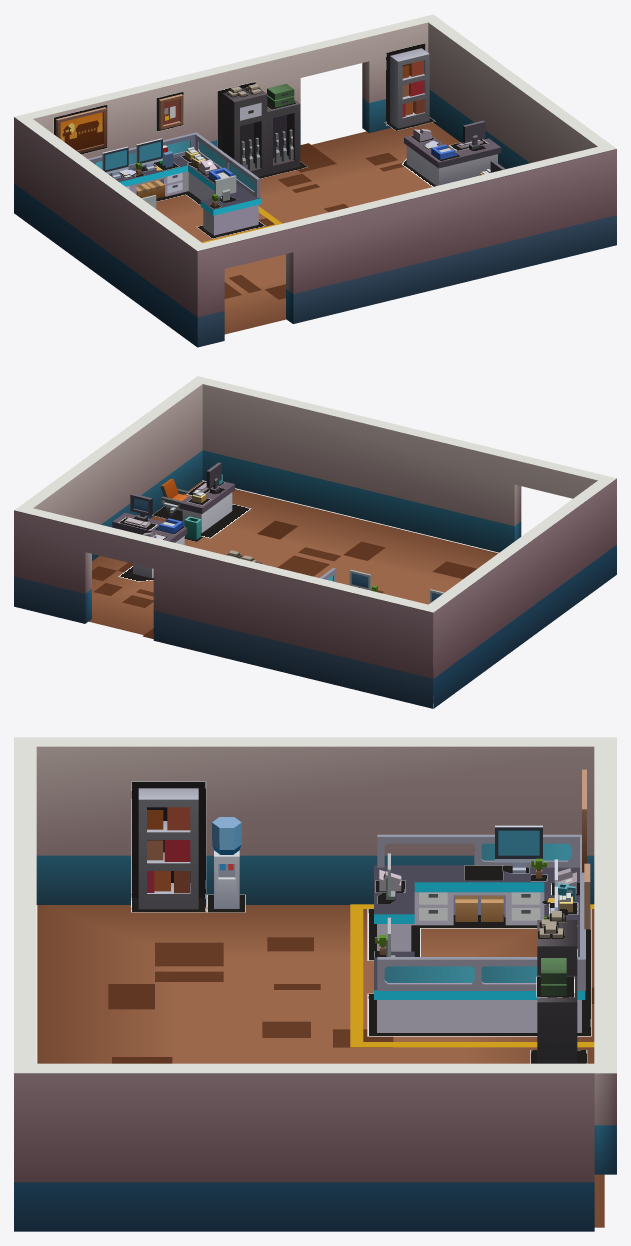
Rendered from control room.fbx.
3 views of the same model, one above another, from view 1: azimuth 30°, elevation 25°; view 2: azimuth 150°, elevation 25°; view 3: azimuth 270°, elevation 25° (orthographic). The views are drawn at different scales.
Visible parts, largest first — view 1: desk.001, shadow; view 2: desk.001, shadow; view 3: desk.001, shadow.
Boxes of the visible parts, x1,y1,x2,y2 form: desk.001: (14, 14, 616, 347); shadow: (53, 43, 488, 238); desk.001: (14, 376, 616, 708); shadow: (118, 481, 257, 581); desk.001: (14, 737, 616, 1231); shadow: (131, 781, 591, 1063).
Bounding box in the file's own units: 1227 × 930 × 284.
2 materials, 2 textured.
